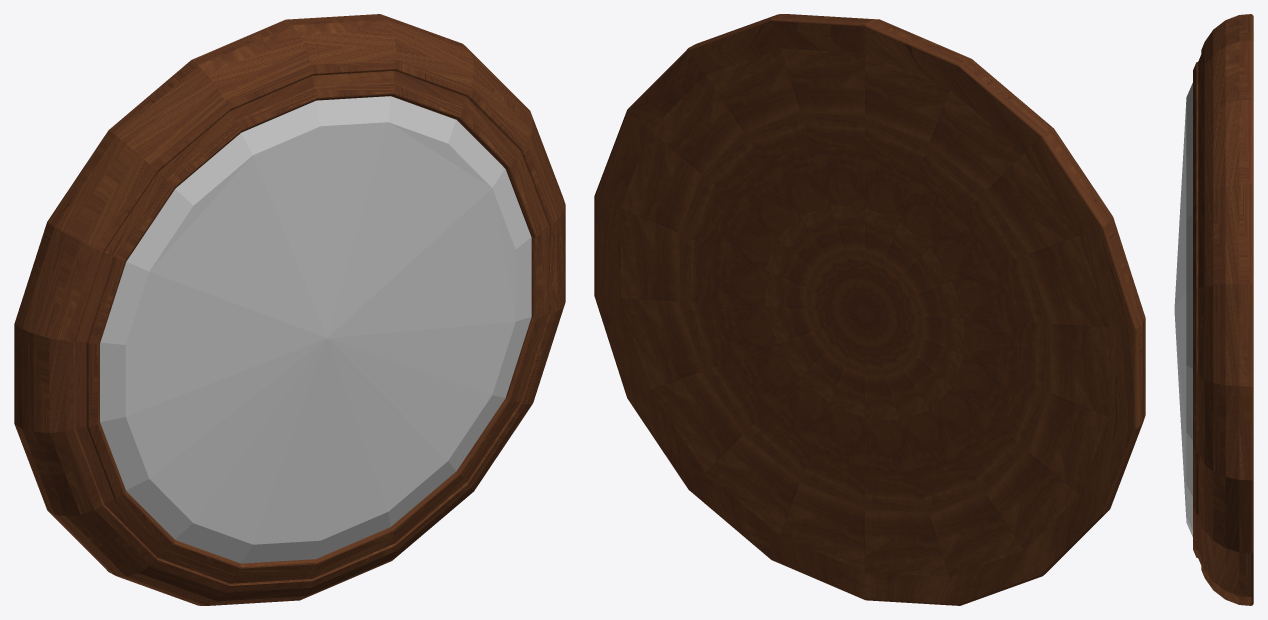
File: Wall Clock.fbx
3 views of the same model, side by side, from view 1: azimuth 30°, elevation 25°; view 2: azimuth 150°, elevation 25°; view 3: azimuth 270°, elevation 25° (orthographic). The views are drawn at different scales.
Visible parts, largest first — view 1: секло, крпус; view 2: крпус; view 3: крпус, секло.
Part boxes in pixels (x1=…): секло: x1=100, y1=96, x2=531, y2=563; крпус: x1=14, y1=14, x2=565, y2=605; крпус: x1=594, y1=14, x2=1145, y2=605; крпус: x1=1193, y1=14, x2=1253, y2=605; секло: x1=1174, y1=83, x2=1192, y2=536.
Bounding box in the file's own units: 253 × 256 × 34.09.
Materials: 6 (2 with a texture image).
